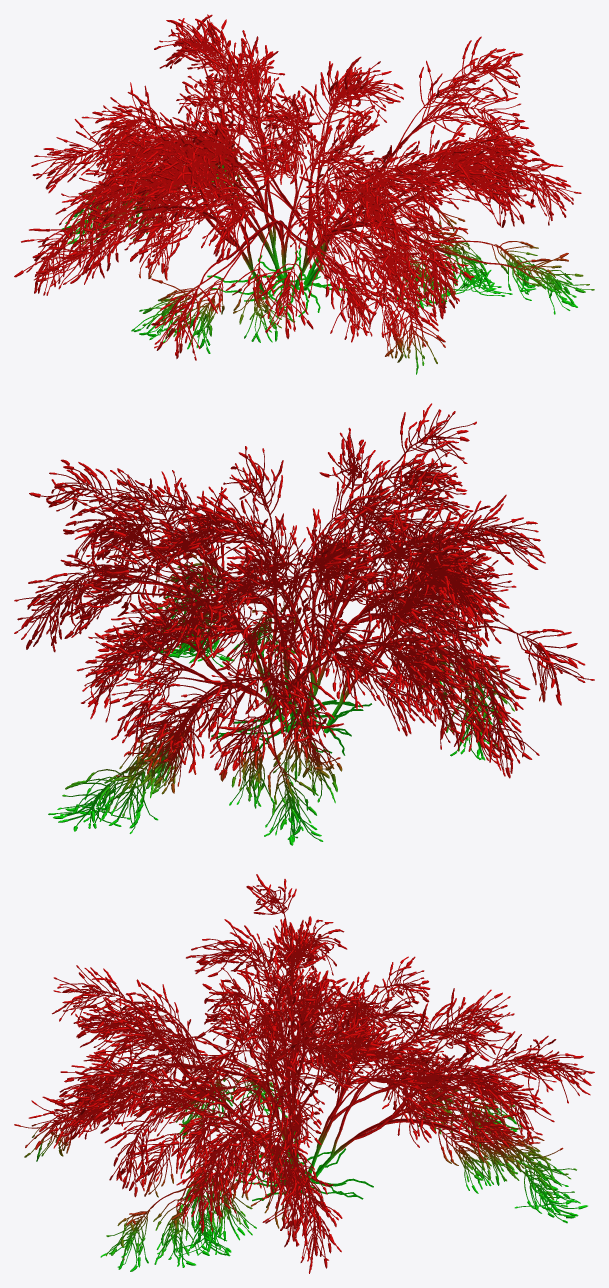
The model's file is Desert Cotton_LOD0_Var8_xeogciyqx.fbx.
3 views of the same model, one above another, from view 1: azimuth 30°, elevation 25°; view 2: azimuth 150°, elevation 25°; view 3: azimuth 270°, elevation 25° (orthographic). The views are drawn at different scales.
Parts seen in each view (by area): view 1: _1nhv_Var8_LOD0; view 2: _1nhv_Var8_LOD0; view 3: _1nhv_Var8_LOD0.
Boxes of the visible parts, box(x1,y1,x2,y2) form: _1nhv_Var8_LOD0: box(14, 14, 594, 374); _1nhv_Var8_LOD0: box(14, 403, 594, 845); _1nhv_Var8_LOD0: box(14, 874, 594, 1273).
Bounding box in the file's own units: 82.88 × 38.14 × 87.57.
